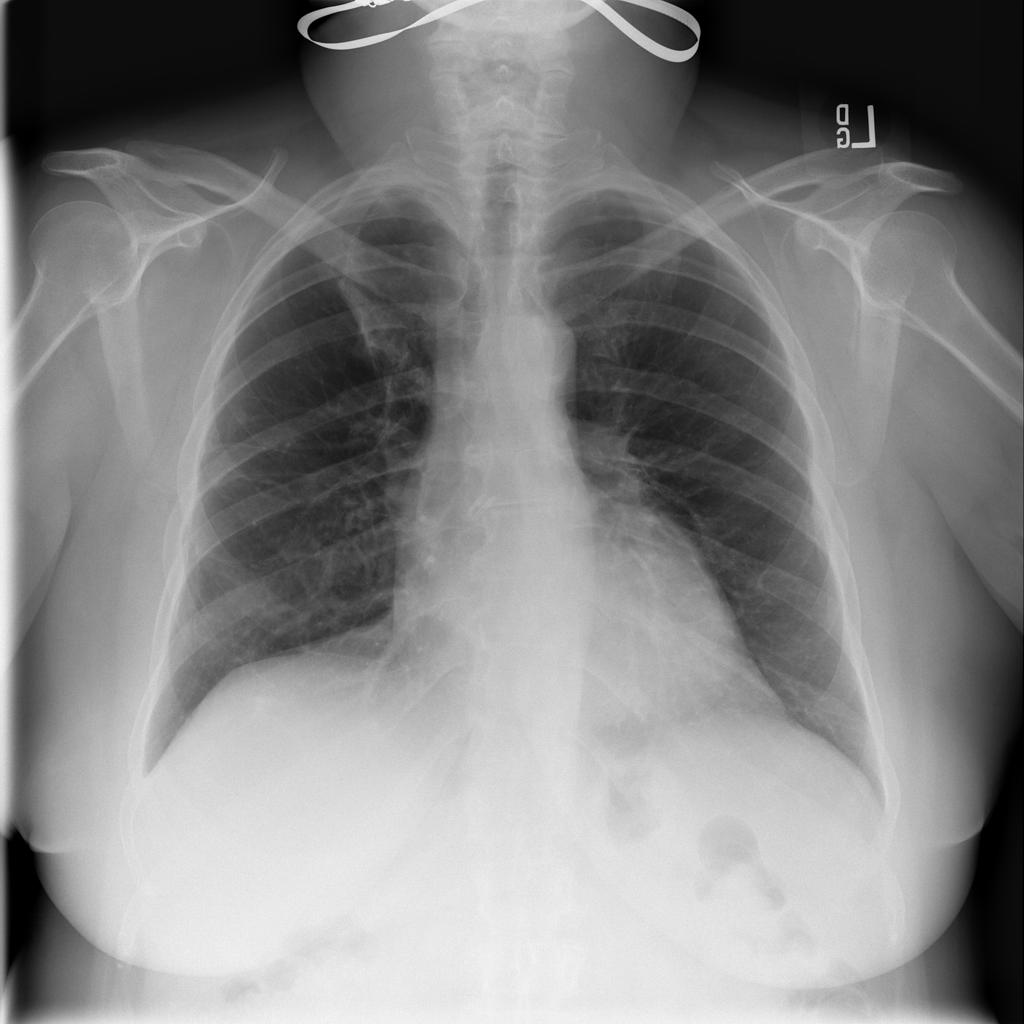nodule: (213, 393, 264, 443)
